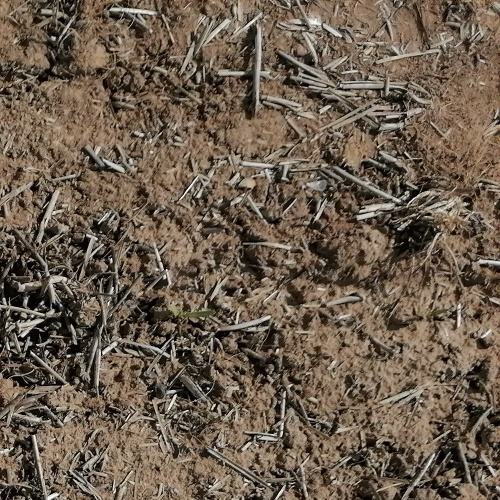beet: (162, 300, 218, 321)
